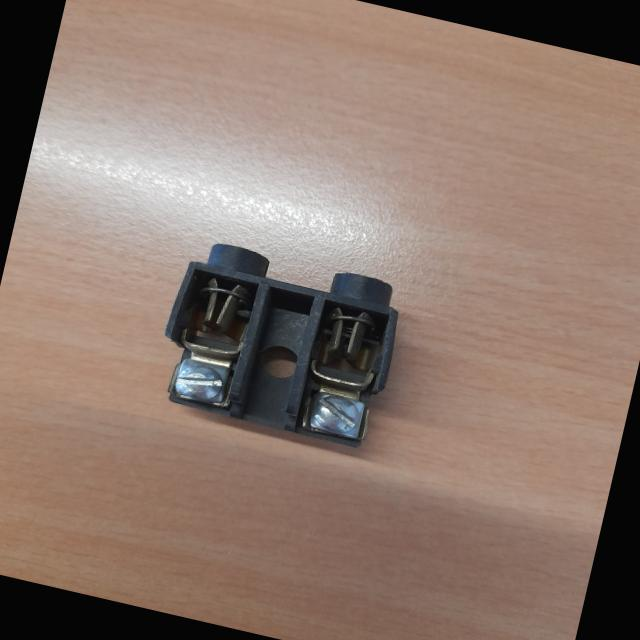Slotted: (305, 391, 366, 437), (173, 359, 226, 404)
